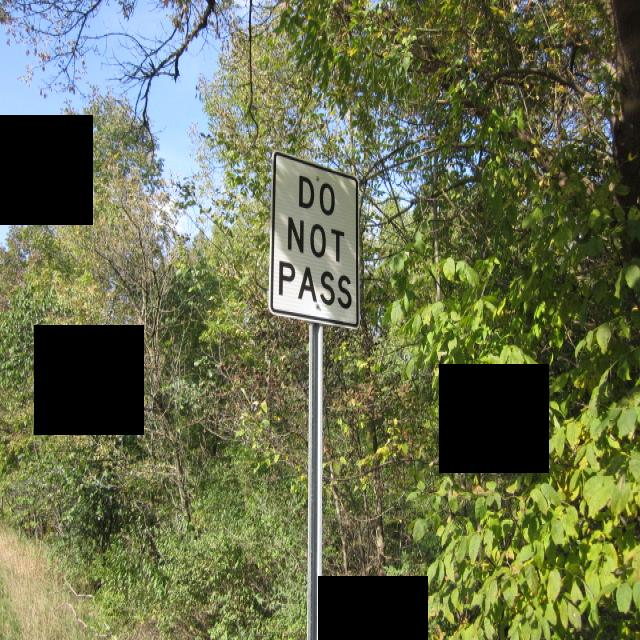regulatory: (264, 144, 362, 332)
